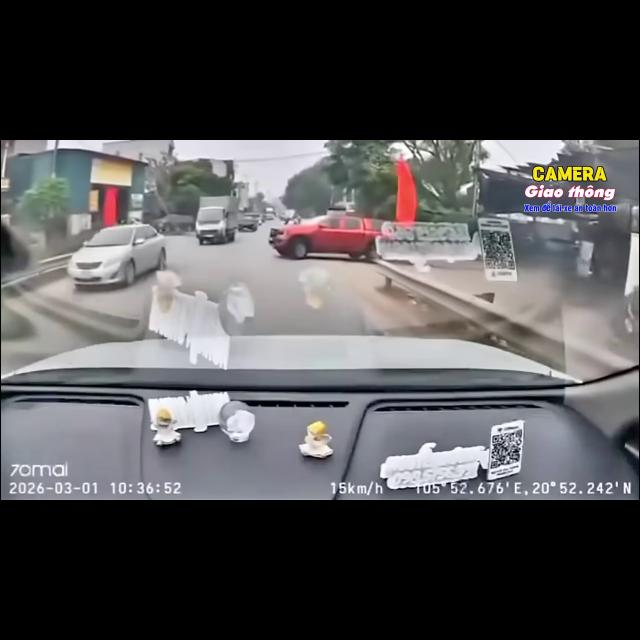car: (67, 224, 166, 287), (269, 216, 382, 260), (239, 213, 260, 231)
truck: (269, 216, 383, 260), (195, 196, 238, 244), (265, 207, 275, 220)
